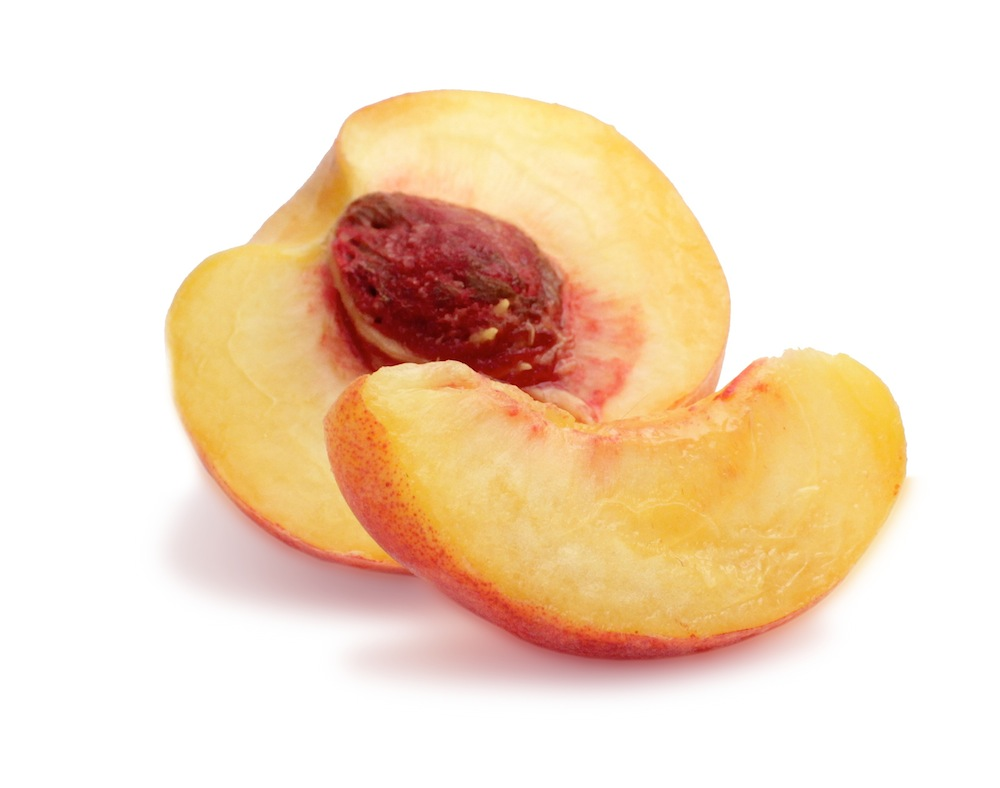peach: (164, 88, 847, 633)
